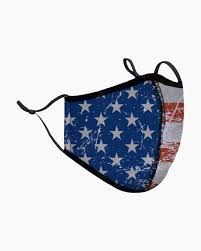cloth_mask: (13, 58, 188, 199)
